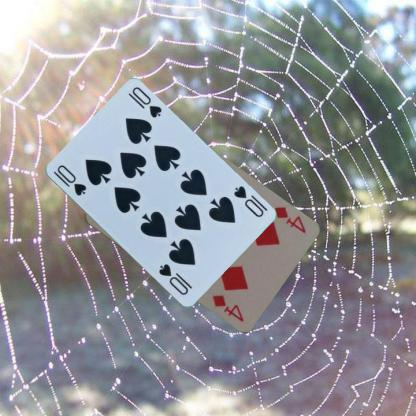10s: (50, 162, 88, 198), (231, 183, 264, 219)
4d: (272, 204, 306, 235)
